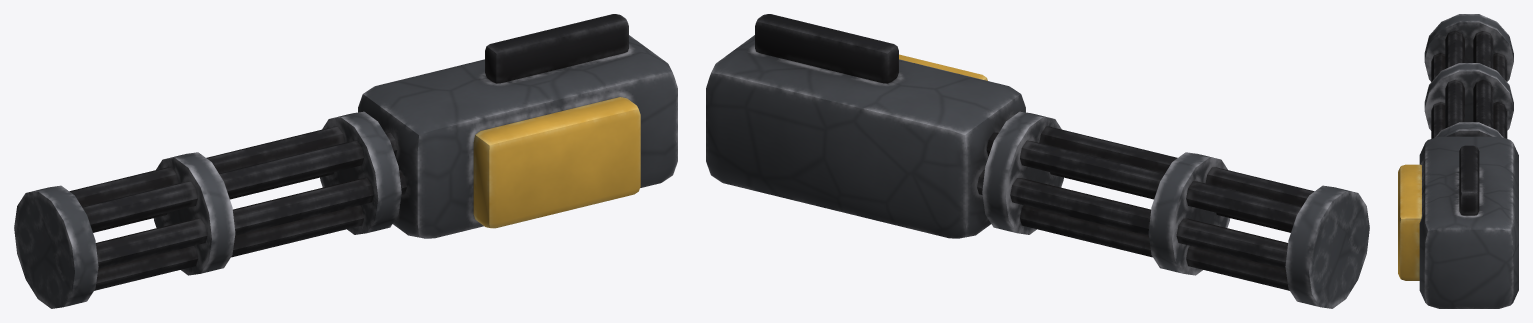
The model's file is pk_chaingun.glb.
3 renders of one model, left to right at view 1: azimuth 30°, elevation 25°; view 2: azimuth 150°, elevation 25°; view 3: azimuth 270°, elevation 25°, orthographic. The views are drawn at different scales.
Visible parts, largest first — view 1: pk_chaingun; view 2: pk_chaingun; view 3: pk_chaingun.
Boxes of the visible parts, x1,y1,x2,y2 form: pk_chaingun: (14, 14, 677, 308); pk_chaingun: (706, 14, 1369, 308); pk_chaingun: (1398, 14, 1518, 308).
Bounding box in the file's own units: 0.975 × 0.2375 × 0.2281.
Materials: 1 (1 with a texture image).
